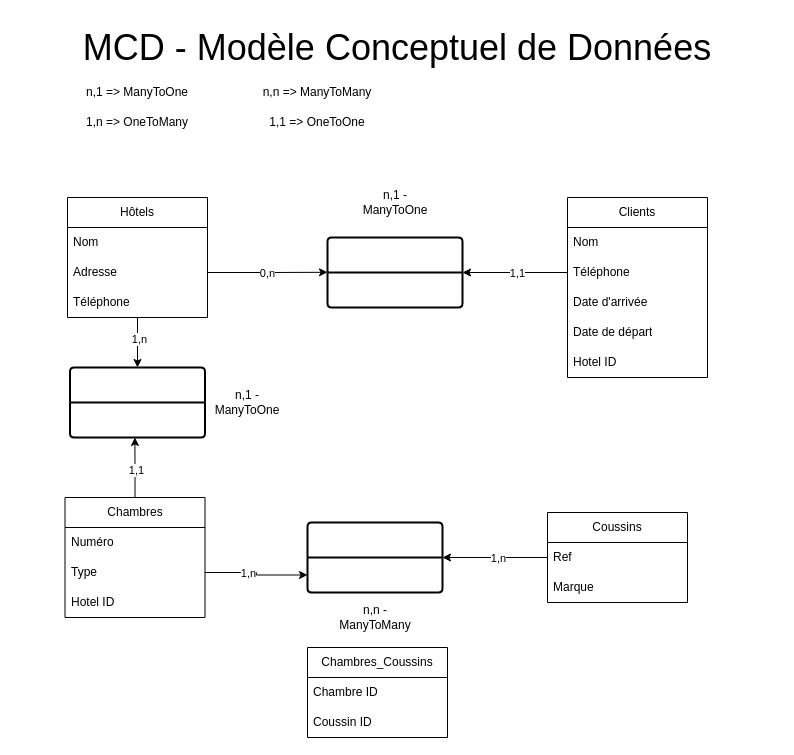
Some shapes in this 794 by 755 pixel diagram are drawn without their labels. Here are the shapes that lost their labels. From the top down, the centre of each, then its label:
the point at 394,272: Héberger
the point at 137,402: Posséder
the point at 374,557: Trouver
